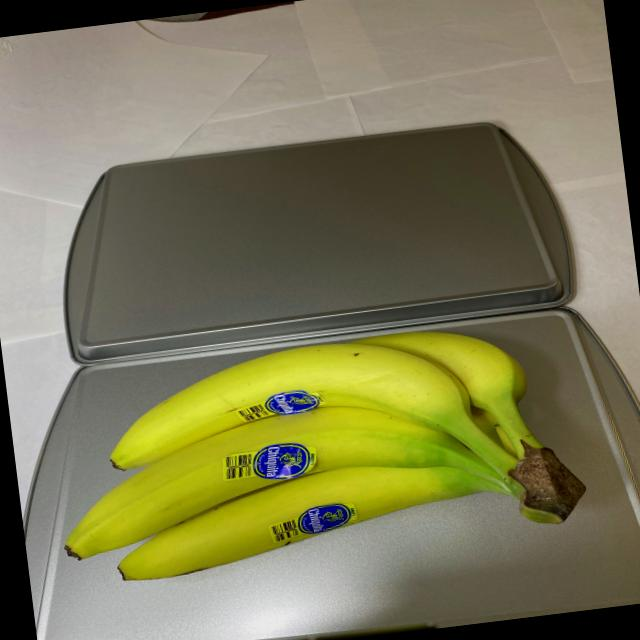banana: (38, 310, 595, 606)
